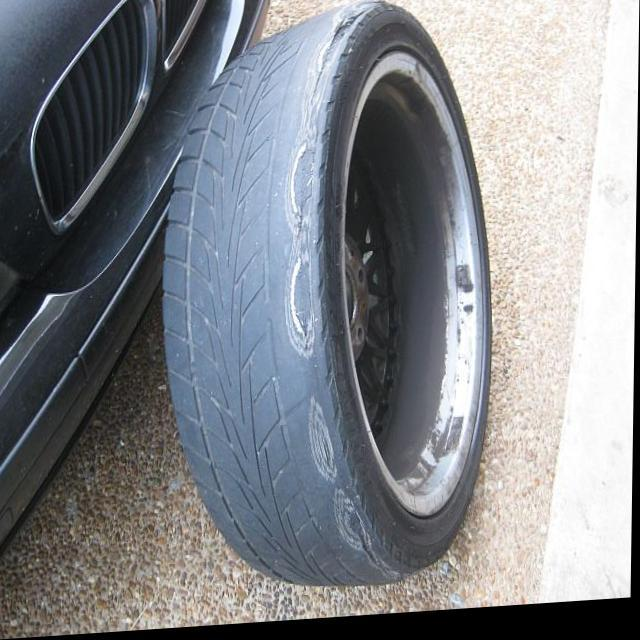Flat spots: (219, 23, 334, 573)
